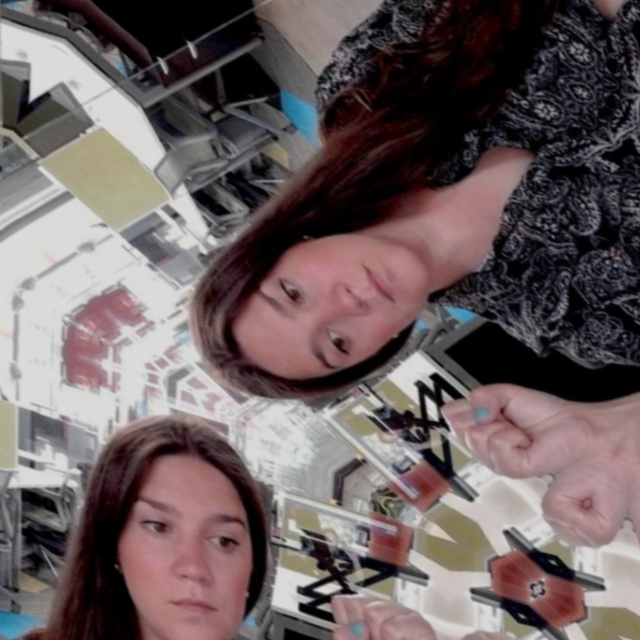Rock: (258, 537, 507, 640)
